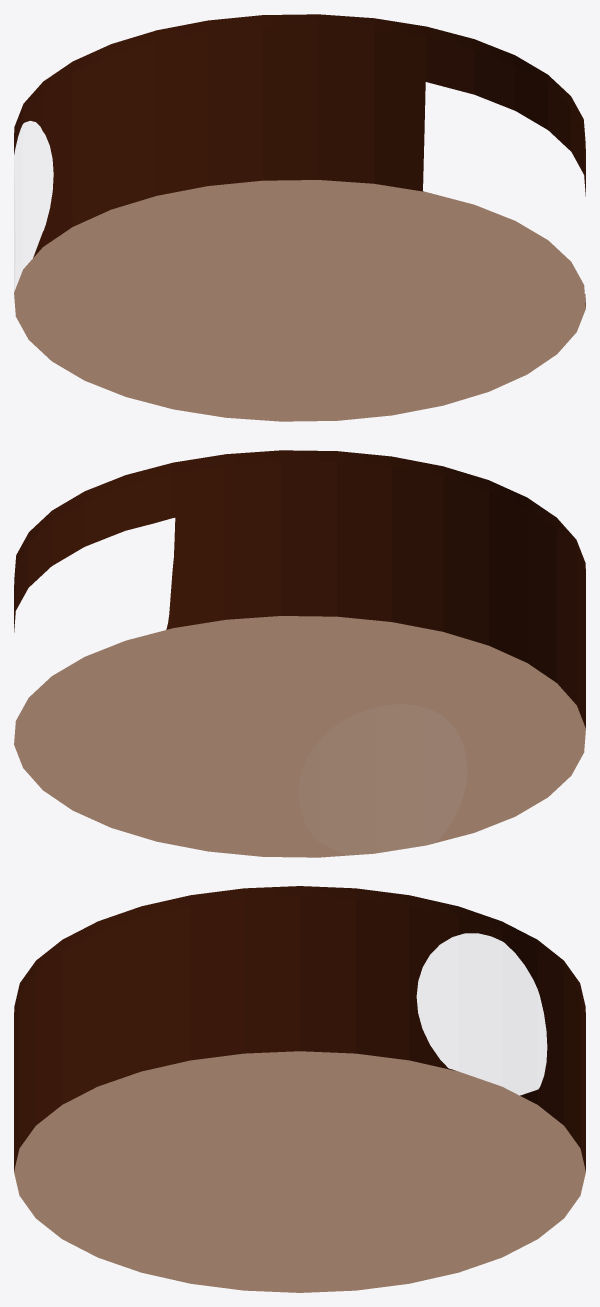
The model's file is FloorAndWalls.fbx.
3 views of the same model, one above another, from view 1: azimuth 30°, elevation 25°; view 2: azimuth 150°, elevation 25°; view 3: azimuth 270°, elevation 25° (orthographic).
Parts seen in each view (by area): view 1: Walls.004, Walls; view 2: Walls.004, Walls; view 3: Walls.004, Walls.
Boxes of the visible parts, x1,y1,x2,y2 form: Walls.004: (14,180,585,421); Walls: (14,14,585,306); Walls.004: (14,616,585,857); Walls: (14,450,585,727); Walls.004: (14,1051,585,1292); Walls: (14,886,585,1170).
Bounding box in the file's own units: 3082 × 983 × 3082.
